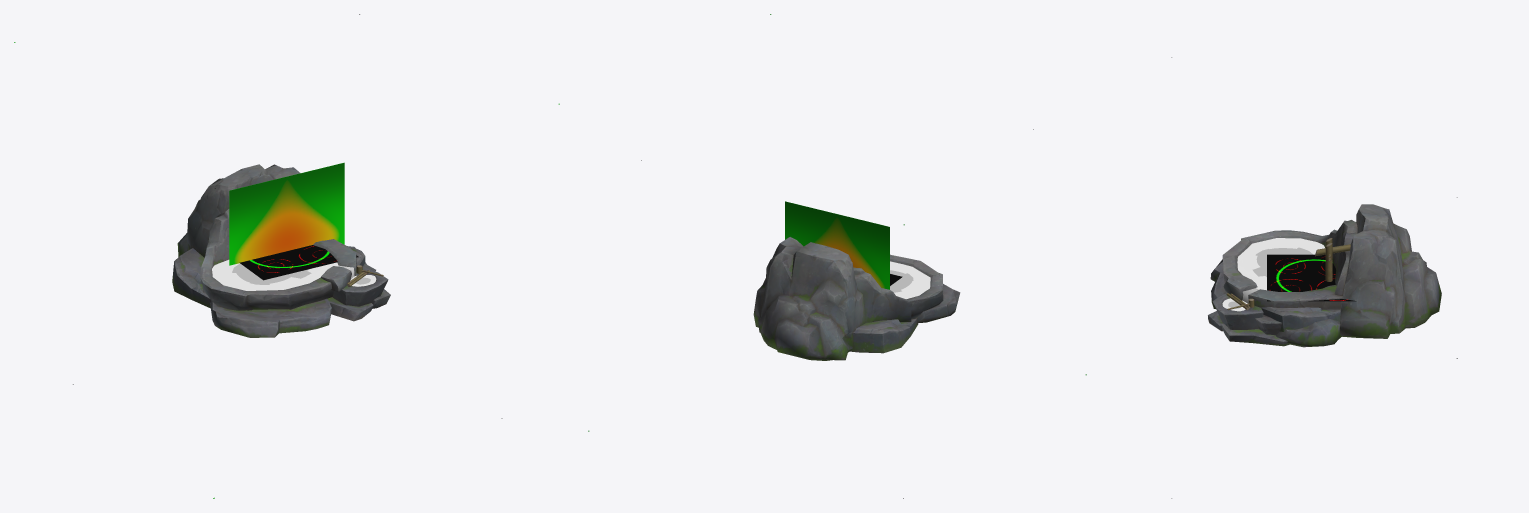
Rendered from Homeworld_Exterior_Dq_Decoration_Both_01_Vo.fbx.
The picture shows the model from 3 angles, left to right: view 1: azimuth 30°, elevation 25°; view 2: azimuth 150°, elevation 25°; view 3: azimuth 270°, elevation 25°; orthographic projection. The views are drawn at different scales.
Visible parts, largest first — view 1: Homeworld_Exterior_Dq_Decoration_Both_01_Vo, Water, Rippling, Homeworld_Exterior_Dq_Decoration_Both_03_Vo, Homeworld_Exterior_Dq_Decoration_Both_02_Vo; view 2: Homeworld_Exterior_Dq_Decoration_Both_01_Vo, Water, Homeworld_Exterior_Dq_Decoration_Both_03_Vo; view 3: Homeworld_Exterior_Dq_Decoration_Both_01_Vo, Rippling, Homeworld_Exterior_Dq_Decoration_Both_03_Vo, Homeworld_Exterior_Dq_Decoration_Both_02_Vo.
Boxes of the visible parts, x1,y1,x2,y2 form: Homeworld_Exterior_Dq_Decoration_Both_01_Vo: (172,164,390,337); Water: (14,42,559,498); Rippling: (73,14,502,418); Homeworld_Exterior_Dq_Decoration_Both_03_Vo: (212,259,376,290); Homeworld_Exterior_Dq_Decoration_Both_02_Vo: (214,263,370,284); Homeworld_Exterior_Dq_Decoration_Both_01_Vo: (753,237,960,360); Water: (588,14,1086,431); Homeworld_Exterior_Dq_Decoration_Both_03_Vo: (890,261,930,299); Homeworld_Exterior_Dq_Decoration_Both_01_Vo: (1208,204,1441,347); Rippling: (1171,57,1457,498); Homeworld_Exterior_Dq_Decoration_Both_03_Vo: (1222,238,1324,311); Homeworld_Exterior_Dq_Decoration_Both_02_Vo: (1228,245,1324,308).
Bounding box in the file's own units: 7.01 × 6.35 × 6.98.
5 materials, 3 textured.
